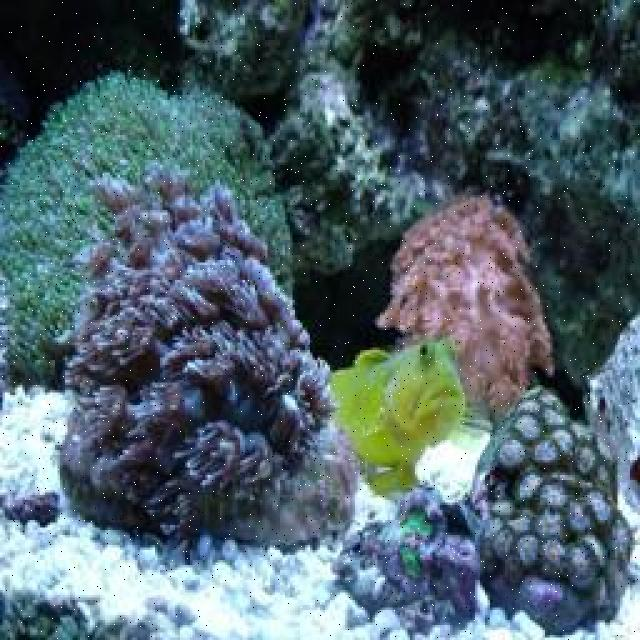fish: (332, 341, 463, 494)
reefs: (58, 171, 357, 560), (0, 70, 294, 389), (339, 390, 634, 635), (375, 196, 554, 414)
